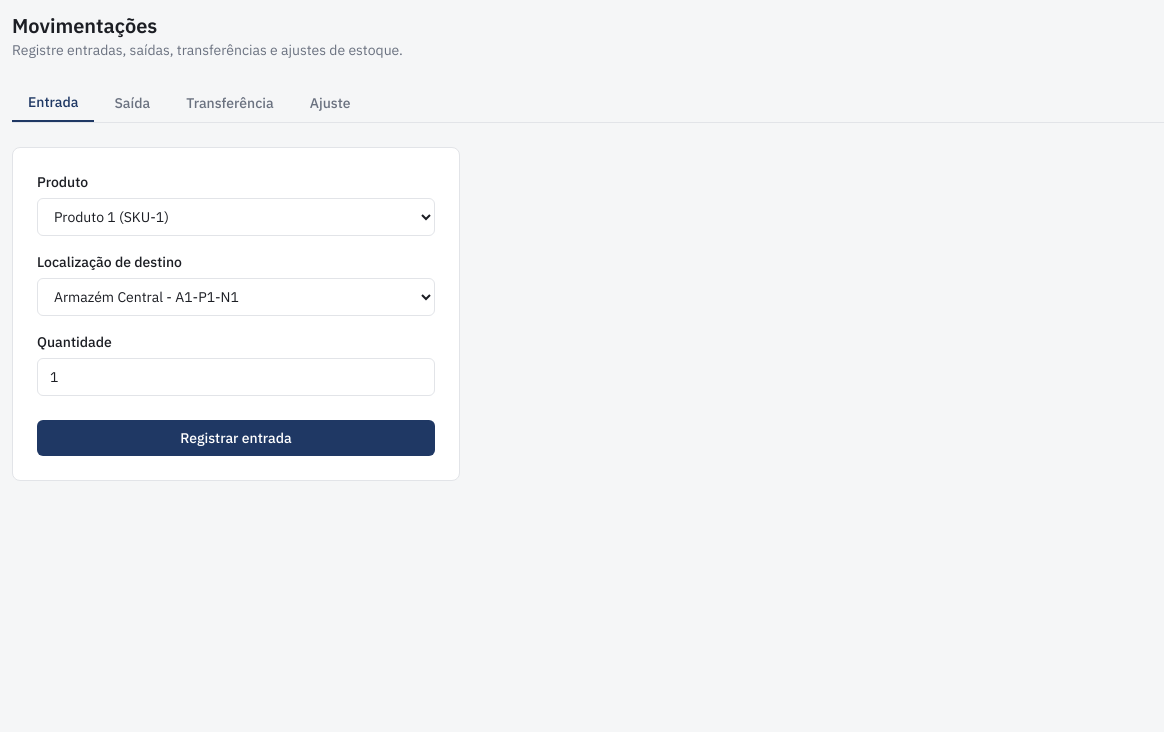
Test case: MovimentacoesPage › aba Transferência mostra origem E destino ao mesmo tempo
Expected: the dropdown labelled "Localização de destino" is shown, [37,278,435,316]
Step 1. Click the button "Transferência" → (230,103), box [170,84,290,122]
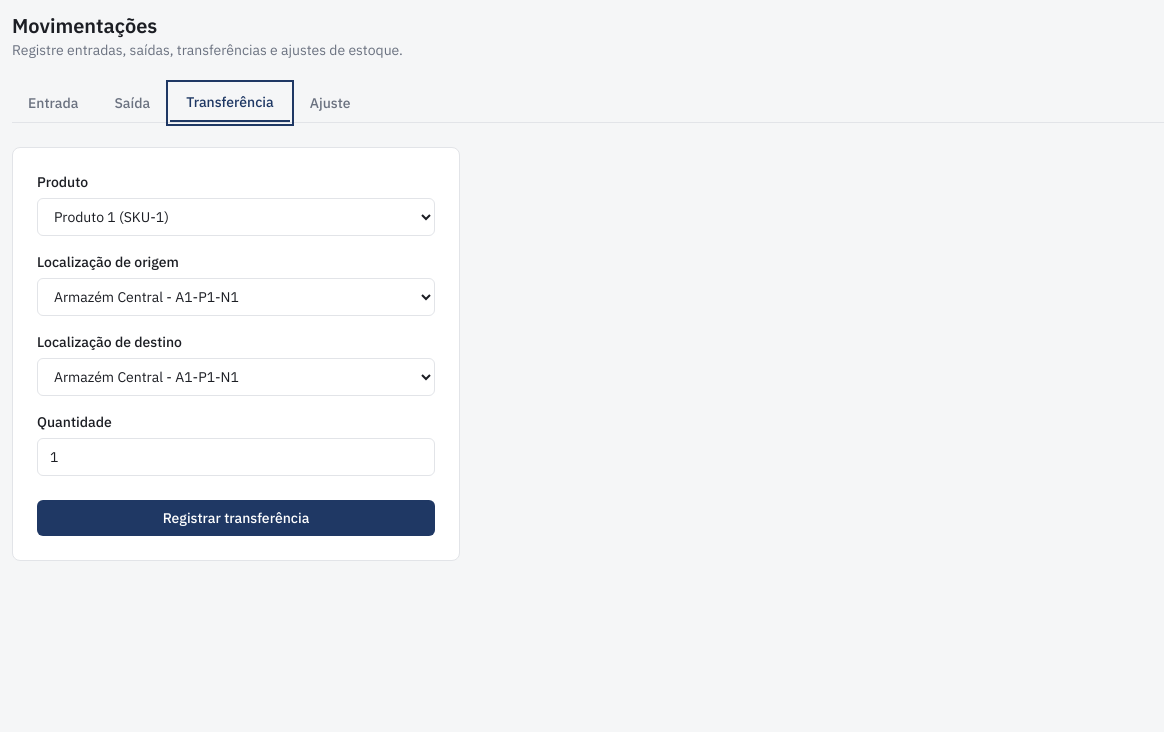
Expected: the dropdown labelled "Localização de origem" is shown, [37,278,435,316]
Expected: the dropdown labelled "Localização de destino" is shown, [37,358,435,396]
